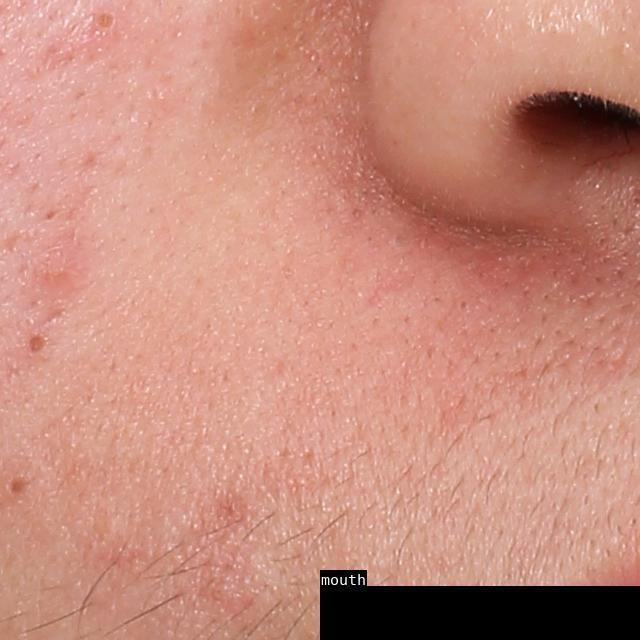comedo: (23, 333, 50, 355), (6, 474, 28, 497), (93, 12, 117, 29)
papule: (36, 253, 76, 288)
